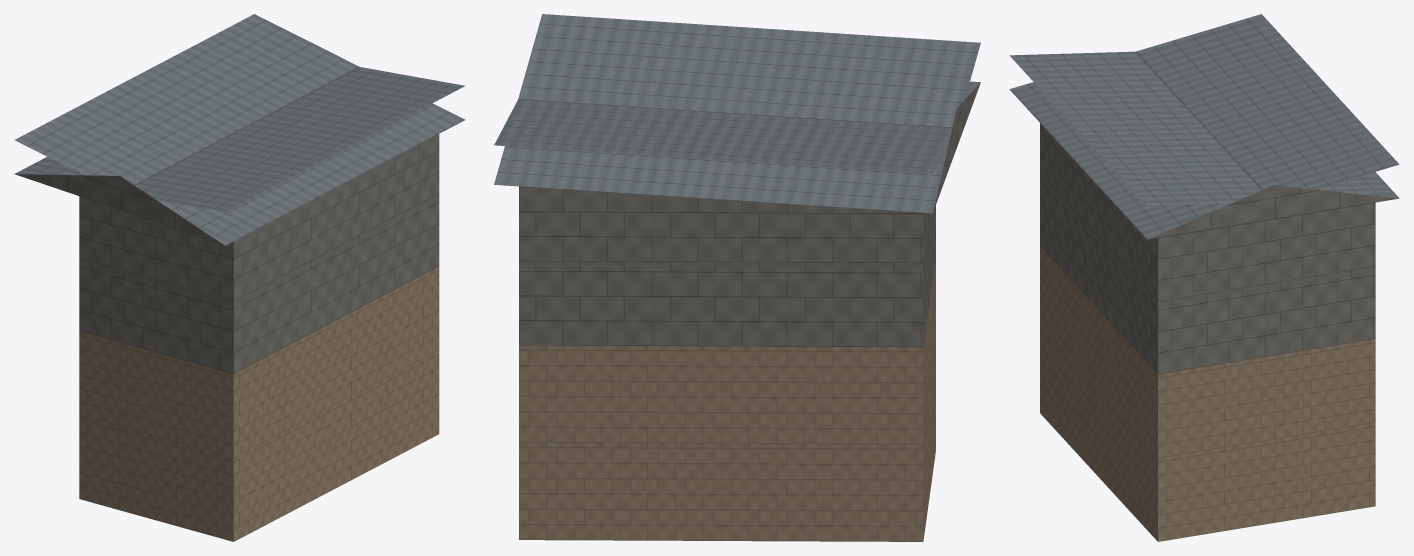
File: bld_c-10_40_510.gltf
3 renders of one model, left to right at view 1: azimuth 30°, elevation 25°; view 2: azimuth 150°, elevation 25°; view 3: azimuth 270°, elevation 25°, orthographic. The views are drawn at different scales.
Parts seen in each view (by area): view 1: bld_c-10_40_510; view 2: bld_c-10_40_510; view 3: bld_c-10_40_510.
Part boxes in pixels (left/top/right/bottom): bld_c-10_40_510: left=14, top=14, right=465, bottom=541; bld_c-10_40_510: left=494, top=14, right=980, bottom=541; bld_c-10_40_510: left=1009, top=14, right=1399, bottom=541.
Size of the model in its own units: 12.12 by 10.2 by 10.43.
Materials: 4 (4 with a texture image).
